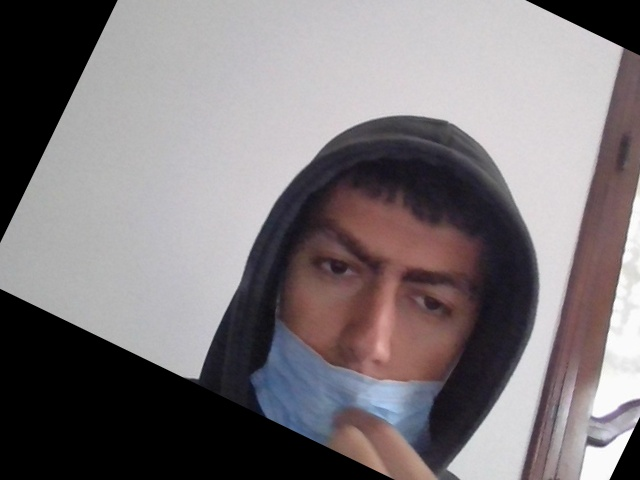mask_weared_incorrect: (265, 147, 489, 469)
